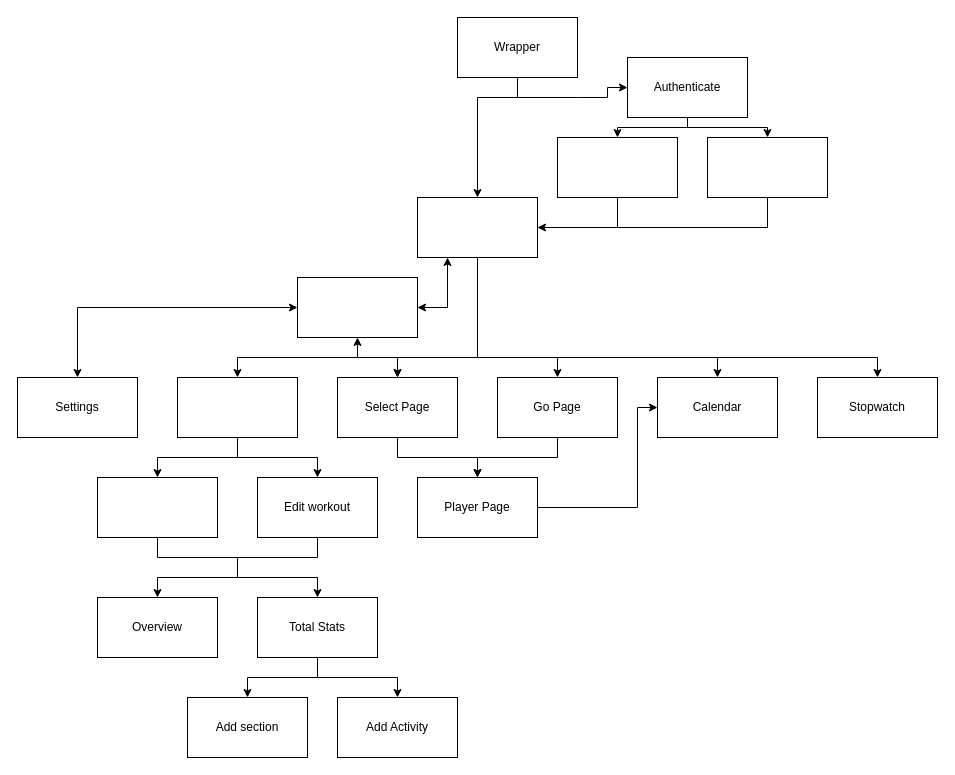
Some shapes in this 955 by 775 pixel diagram are drawn without their labels. The box of each missing label's shape, as (x1, y1, x2, y2) in pixels:
Create Workout: (96, 476, 218, 538)
Editor Page: (176, 376, 298, 438)
Home Page: (416, 196, 538, 258)
Navgiaton Drawer: (296, 276, 418, 338)
Register: (706, 136, 828, 198)
Sign In: (556, 136, 678, 198)
